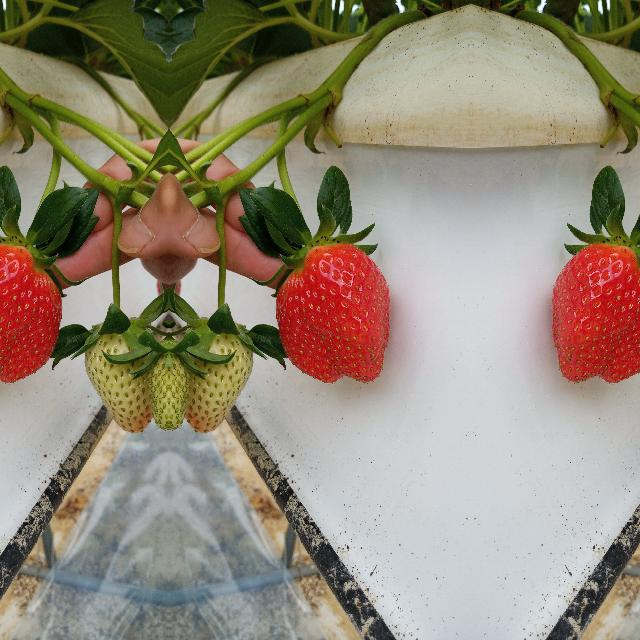Health_100: (274, 242, 390, 384), (551, 242, 640, 383), (0, 242, 61, 383)
Health_50: (188, 313, 252, 445), (84, 313, 148, 445)
